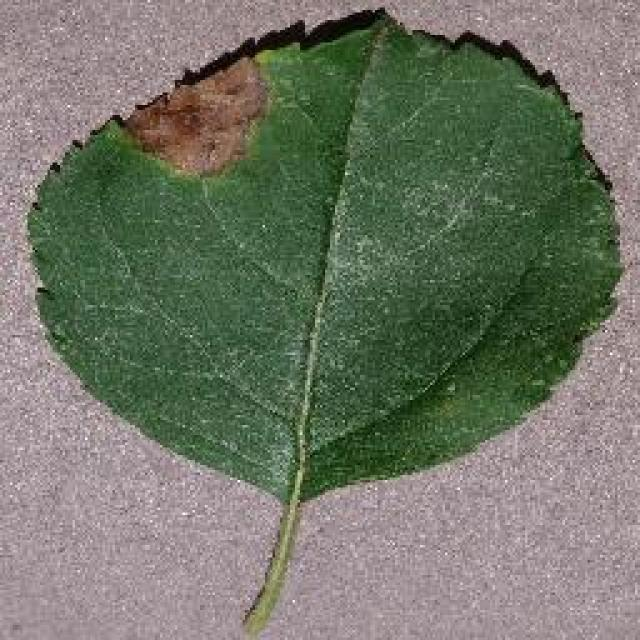apple healthy: (23, 5, 625, 637)
